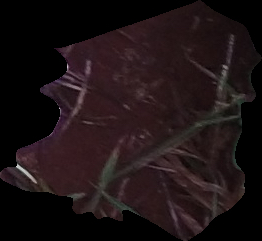soil: (1, 1, 262, 240)
